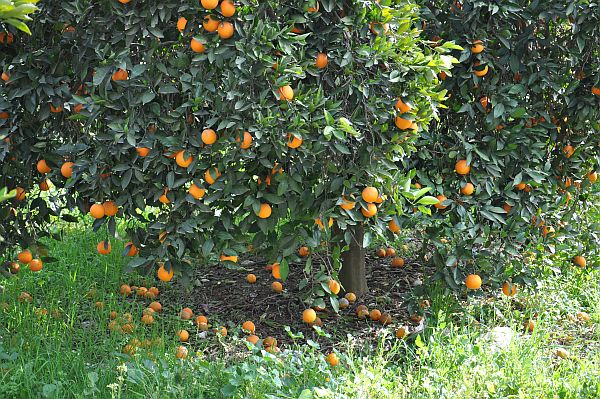portakal: (235, 128, 266, 162), (457, 266, 489, 296), (196, 123, 224, 151), (286, 124, 315, 151), (308, 46, 335, 72), (500, 275, 523, 305), (106, 62, 135, 85), (454, 182, 490, 199), (471, 59, 499, 80), (393, 112, 418, 134), (151, 263, 177, 283), (186, 33, 211, 52), (452, 156, 475, 175), (87, 197, 104, 221), (298, 306, 320, 322), (272, 262, 289, 280)
